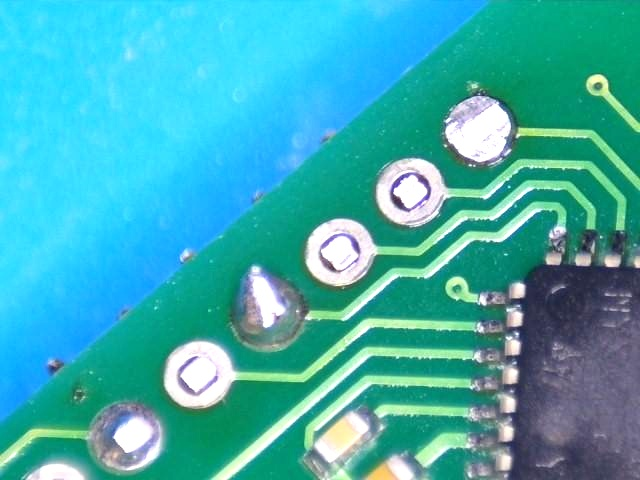pcb_defect: (233, 266, 308, 346), (92, 402, 161, 469)
